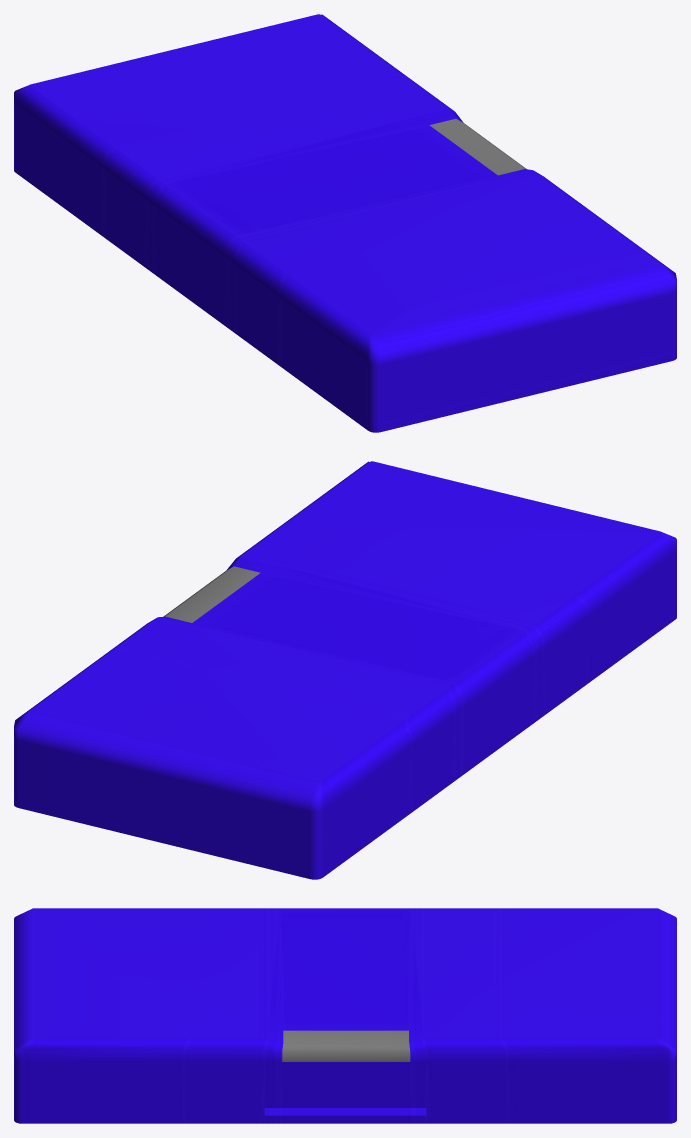
File: hudebako.fbx
The picture shows the model from 3 angles, top to bottom: view 1: azimuth 30°, elevation 25°; view 2: azimuth 150°, elevation 25°; view 3: azimuth 270°, elevation 25°; orthographic projection. The views are drawn at different scales.
Parts seen in each view (by area): view 1: hudebako; view 2: hudebako; view 3: hudebako.
Boxes of the visible parts, left/top/right/bottom form: hudebako: left=14, top=14, right=676, bottom=432; hudebako: left=14, top=461, right=676, bottom=879; hudebako: left=14, top=908, right=676, bottom=1123.
Size of the model in its own units: 3.44 by 0.9557 by 7.01.
1 material, 1 textured.
